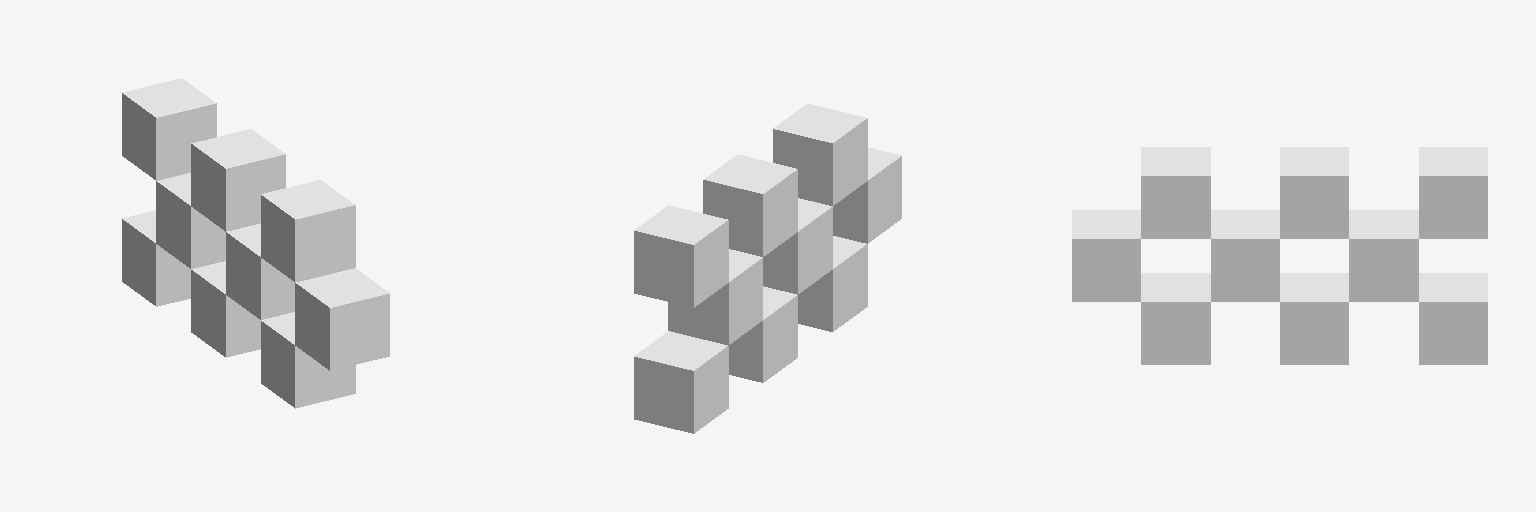
Rendered from ShortVGrate.obj.
3 views of the same model, side by side, from view 1: azimuth 30°, elevation 25°; view 2: azimuth 150°, elevation 25°; view 3: azimuth 270°, elevation 25° (orthographic).
Parts seen in each view (by area): view 1: object 1; view 2: object 1; view 3: object 1.
Part boxes in pixels (x1,y1,x2,y2): object 1: (122,78,389,408); object 1: (634,103,901,433); object 1: (1072,147,1487,364).
Bounding box in the file's own units: 0.1 × 0.3 × 0.6.